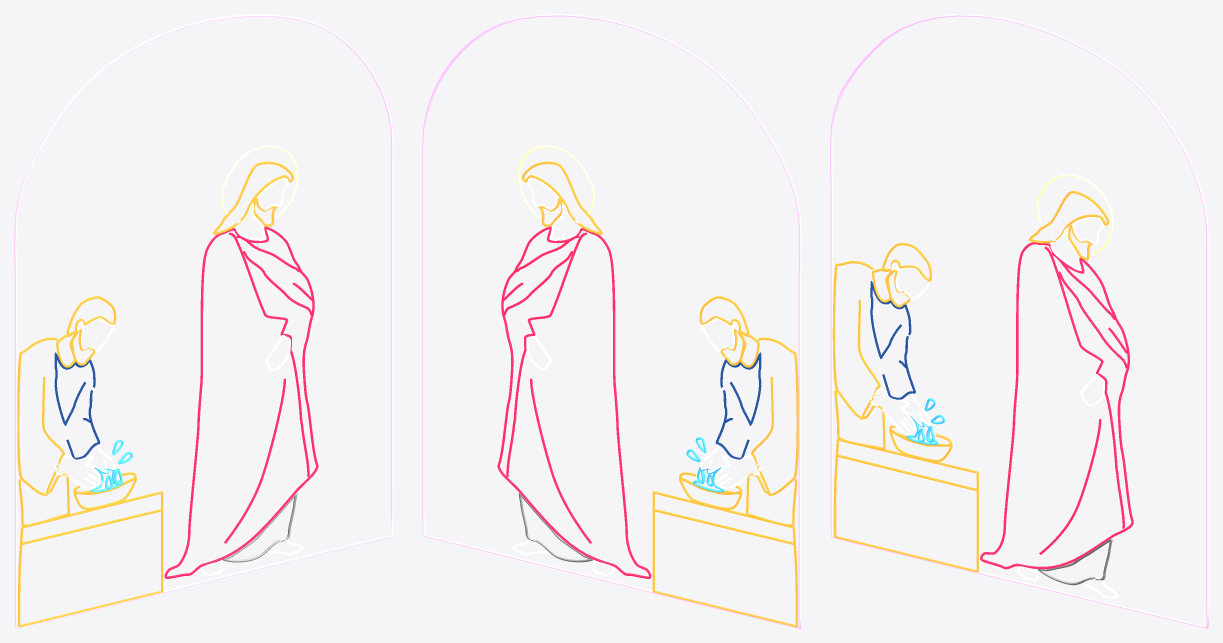
File: 1-Ponzio Pilatos.fbx
3 renders of one model, left to right at view 1: azimuth 30°, elevation 25°; view 2: azimuth 150°, elevation 25°; view 3: azimuth 330°, elevation 25°, orthographic.
Parts seen in each view (by area): view 1: 1-Ponzio Pilatos 1; view 2: 1-Ponzio Pilatos 1; view 3: 1-Ponzio Pilatos 1.
Boxes of the visible parts, left/top/right/bottom form: 1-Ponzio Pilatos 1: left=14, top=14, right=393, bottom=628; 1-Ponzio Pilatos 1: left=422, top=14, right=801, bottom=628; 1-Ponzio Pilatos 1: left=830, top=14, right=1208, bottom=628.
Size of the model in its own units: 353 by 501 by 4.83.
